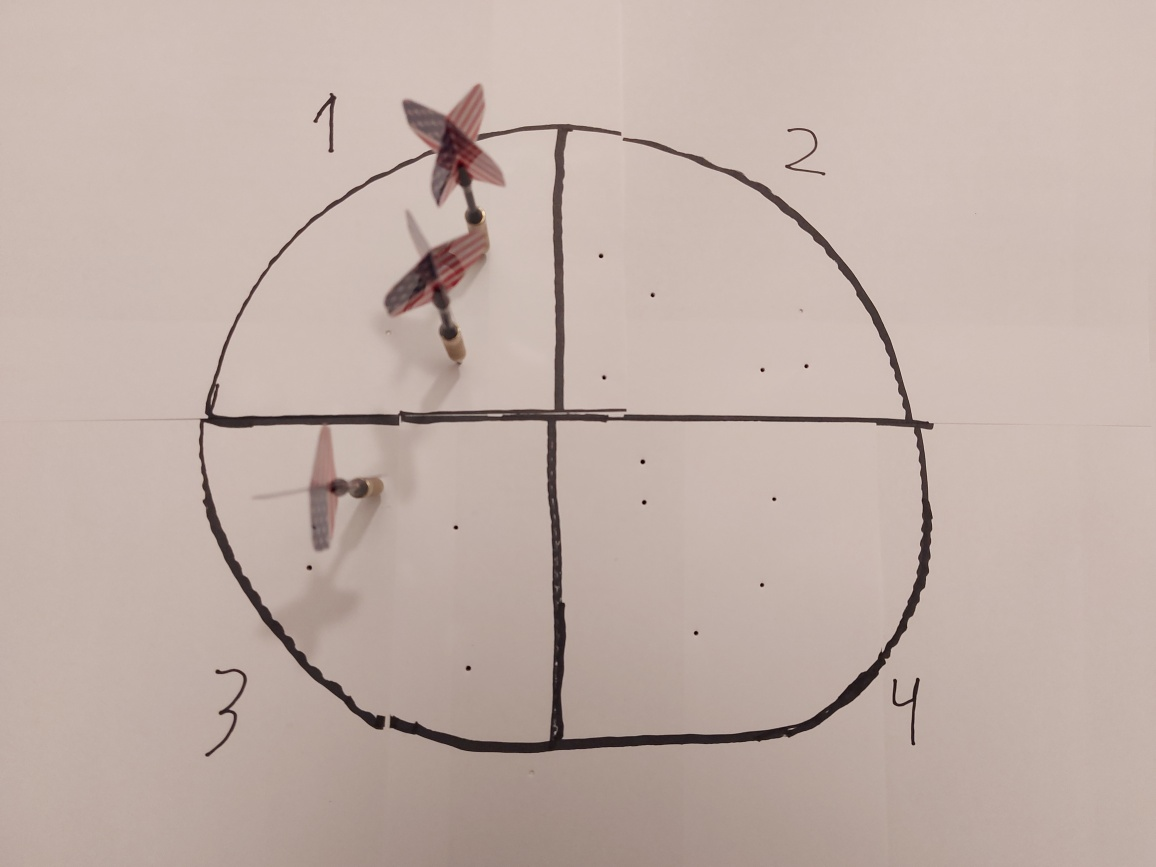Dart: (357, 208, 501, 384), (390, 81, 531, 244), (245, 410, 392, 559)
